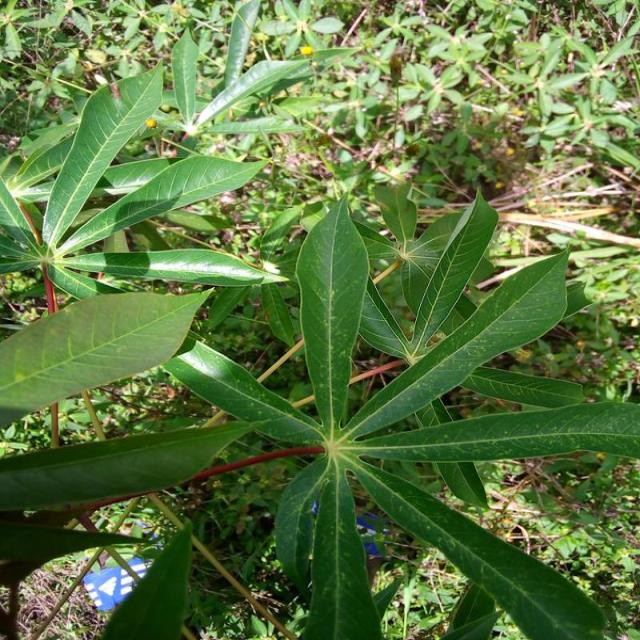cassava leaf: (0, 287, 213, 428), (41, 59, 164, 252), (294, 191, 371, 436)
